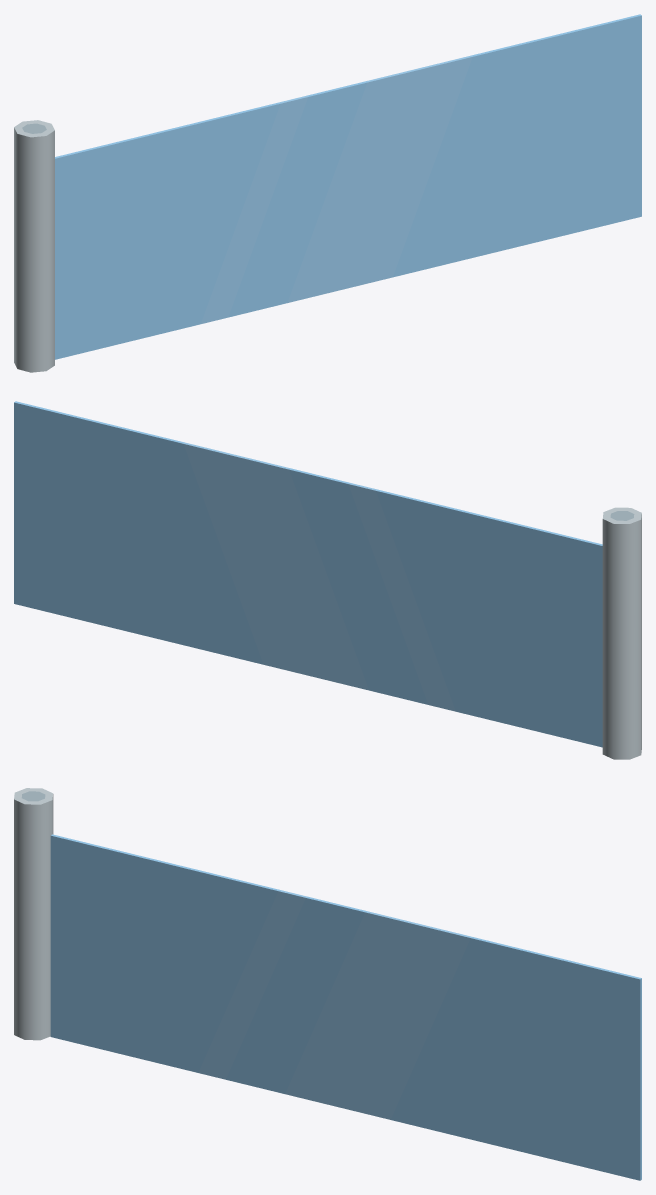
The model's file is Factory_fence.fbx.
The picture shows the model from 3 angles, top to bottom: view 1: azimuth 30°, elevation 25°; view 2: azimuth 150°, elevation 25°; view 3: azimuth 330°, elevation 25°; orthographic projection.
Parts seen in each view (by area): view 1: 立方体.002; view 2: 立方体.002; view 3: 立方体.002.
Boxes of the visible parts, bbox=[...] form: 立方体.002: bbox=[14, 14, 641, 372]; 立方体.002: bbox=[14, 401, 641, 759]; 立方体.002: bbox=[14, 788, 641, 1180].
Bounding box in the file's own units: 201 × 72.5 × 11.6.
